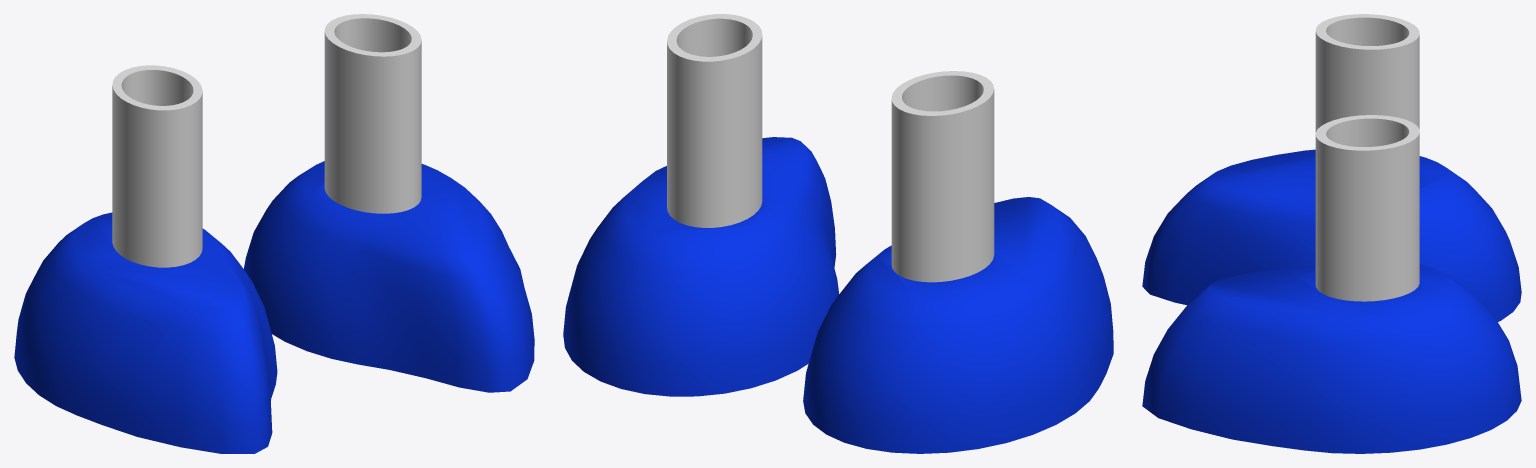
File: CartoonShoes.fbx
3 renders of one model, left to right at view 1: azimuth 30°, elevation 25°; view 2: azimuth 150°, elevation 25°; view 3: azimuth 270°, elevation 25°, orthographic. The views are drawn at different scales.
Parts seen in each view (by area): view 1: Shoe|Shoe.002|Dupli|1, Shoe.001|Shoe.002|Dupli|1, Shoe|ShoeLeg|Dupli|, Shoe.001|ShoeLeg|Dupli|; view 2: Shoe.001|Shoe.002|Dupli|1, Shoe|Shoe.002|Dupli|1, Shoe.001|ShoeLeg|Dupli|, Shoe|ShoeLeg|Dupli|; view 3: Shoe|Shoe.002|Dupli|1, Shoe.001|Shoe.002|Dupli|1, Shoe|ShoeLeg|Dupli|, Shoe.001|ShoeLeg|Dupli|.
Boxes of the visible parts, x1,y1,x2,y2 form: Shoe|Shoe.002|Dupli|1: [244, 161, 534, 392]; Shoe.001|Shoe.002|Dupli|1: [14, 212, 277, 453]; Shoe|ShoeLeg|Dupli|: [324, 14, 421, 213]; Shoe.001|ShoeLeg|Dupli|: [112, 65, 202, 267]; Shoe.001|Shoe.002|Dupli|1: [803, 197, 1113, 453]; Shoe|Shoe.002|Dupli|1: [563, 137, 839, 396]; Shoe.001|ShoeLeg|Dupli|: [891, 71, 994, 282]; Shoe|ShoeLeg|Dupli|: [667, 14, 762, 227]; Shoe|Shoe.002|Dupli|1: [1142, 264, 1521, 453]; Shoe.001|Shoe.002|Dupli|1: [1142, 149, 1521, 321]; Shoe|ShoeLeg|Dupli|: [1315, 115, 1419, 301]; Shoe.001|ShoeLeg|Dupli|: [1315, 14, 1419, 132].
Bounding box in the file's own units: 699 × 400 × 521.
